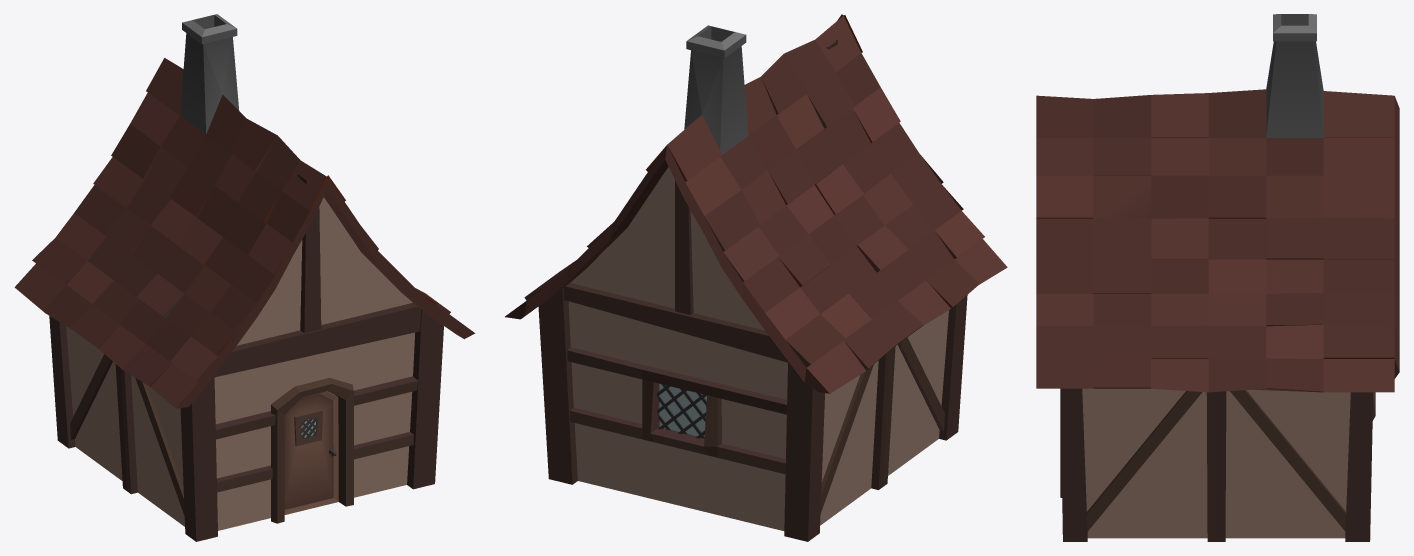
File: HouseSmall.fbx
The picture shows the model from 3 angles, left to right: view 1: azimuth 30°, elevation 25°; view 2: azimuth 150°, elevation 25°; view 3: azimuth 270°, elevation 25°; orthographic projection. The views are drawn at different scales.
Parts seen in each view (by area): view 1: HouseSmall, Door.002; view 2: HouseSmall; view 3: HouseSmall.
Boxes of the visible parts, x1=… form: HouseSmall: x1=14, y1=14, x2=475, y2=541; Door.002: x1=284, y1=391, x2=338, y2=514; HouseSmall: x1=505, y1=14, x2=1007, y2=541; HouseSmall: x1=1036, y1=14, x2=1399, y2=541.
Size of the model in its own units: 4.27 by 5.56 by 4.
